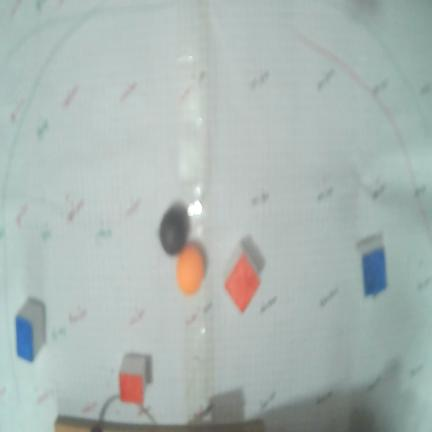circle_blue: (159, 203, 190, 255)
circle_orange: (176, 243, 204, 295)
rectangle_blue: (17, 315, 33, 361)
rectangle_orange: (120, 372, 146, 403)
square_blue: (362, 248, 386, 295)
square_orange: (225, 251, 260, 312)
